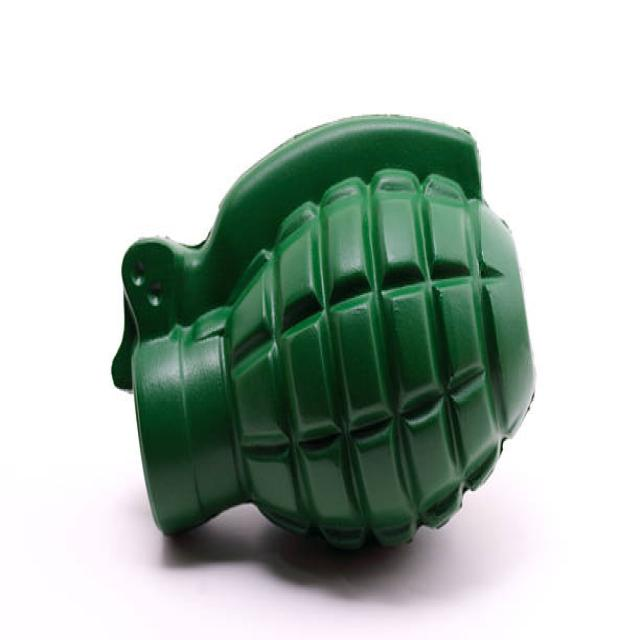grenade: (106, 112, 542, 559)
